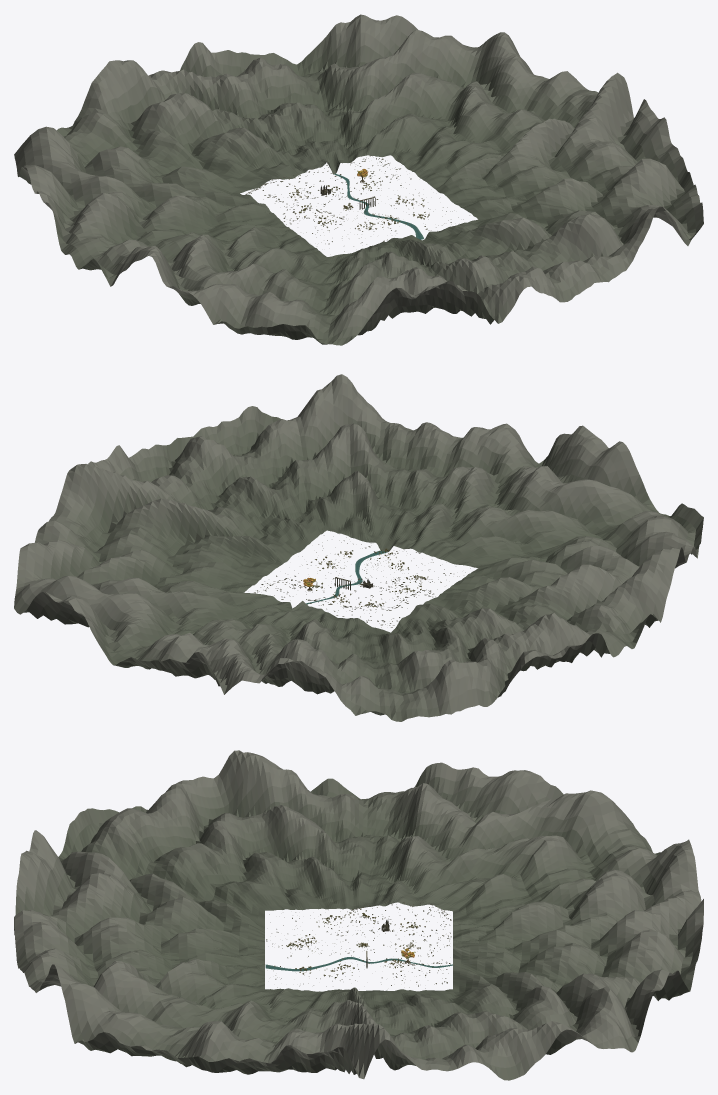
The model's file is Landmarks.glb.
3 renders of one model, top to bottom at view 1: azimuth 30°, elevation 25°; view 2: azimuth 150°, elevation 25°; view 3: azimuth 270°, elevation 25°, orthographic. The views are drawn at different scales.
Visible parts, largest first — view 1: 层叠远山; view 2: 层叠远山; view 3: 层叠远山.
Boxes of the visible parts, <box> form: 层叠远山: <box>14,14,703,345</box>; 层叠远山: <box>14,374,703,721</box>; 层叠远山: <box>14,750,703,1080</box>.
Size of the model in its own units: 5636 by 699 by 5636.
3 materials, 1 textured.
